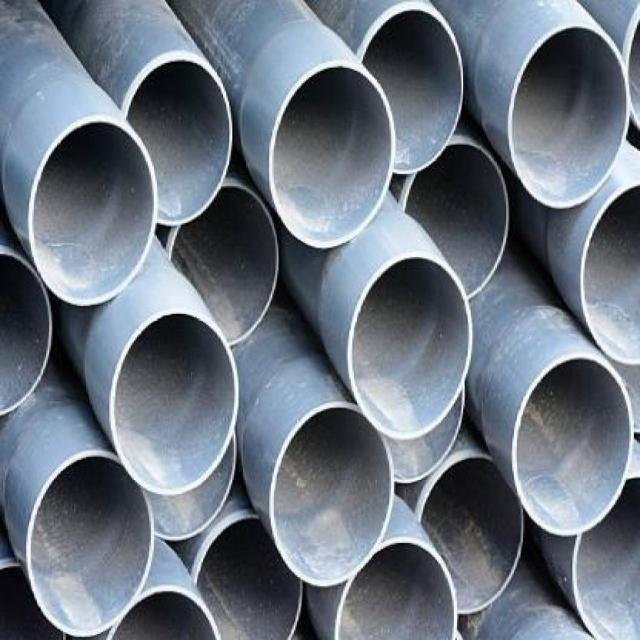pipe: (28, 114, 158, 306), (109, 308, 239, 496), (346, 251, 474, 439), (26, 449, 154, 637), (268, 63, 396, 249), (270, 400, 395, 585), (507, 27, 630, 210), (511, 353, 633, 536), (125, 59, 233, 227), (169, 184, 279, 346), (403, 139, 510, 301), (361, 7, 463, 175), (419, 456, 524, 614), (192, 510, 305, 638), (334, 535, 459, 640), (578, 178, 640, 366), (572, 475, 640, 640), (1, 246, 56, 416), (381, 372, 463, 483)
